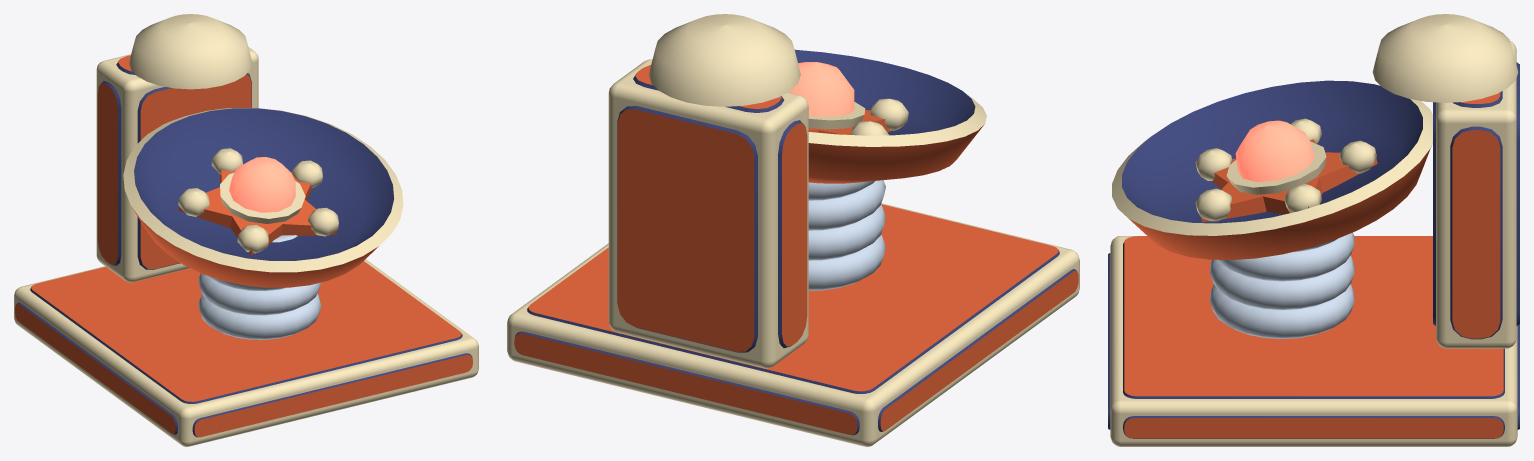
Rendered from R4X_ExplosiveTrapDeployer.fbx.
The picture shows the model from 3 angles, left to right: view 1: azimuth 30°, elevation 25°; view 2: azimuth 150°, elevation 25°; view 3: azimuth 270°, elevation 25°; orthographic projection. The views are drawn at different scales.
Parts seen in each view (by area): view 1: R4X_ExplosiveTrapDeployer_Body, R4X_ExplosiveTrapDeployer_Payload; view 2: R4X_ExplosiveTrapDeployer_Body, R4X_ExplosiveTrapDeployer_Payload; view 3: R4X_ExplosiveTrapDeployer_Body, R4X_ExplosiveTrapDeployer_Payload.
Boxes of the visible parts, x1=… form: R4X_ExplosiveTrapDeployer_Body: x1=14, y1=14, x2=478, y2=446; R4X_ExplosiveTrapDeployer_Payload: x1=178, y1=148, x2=338, y2=255; R4X_ExplosiveTrapDeployer_Body: x1=507, y1=14, x2=1079, y2=446; R4X_ExplosiveTrapDeployer_Payload: x1=788, y1=62, x2=908, y2=135; R4X_ExplosiveTrapDeployer_Body: x1=1108, y1=14, x2=1519, y2=446; R4X_ExplosiveTrapDeployer_Payload: x1=1195, y1=118, x2=1377, y2=222.
Size of the model in its own units: 0.52 by 0.476 by 0.52.
